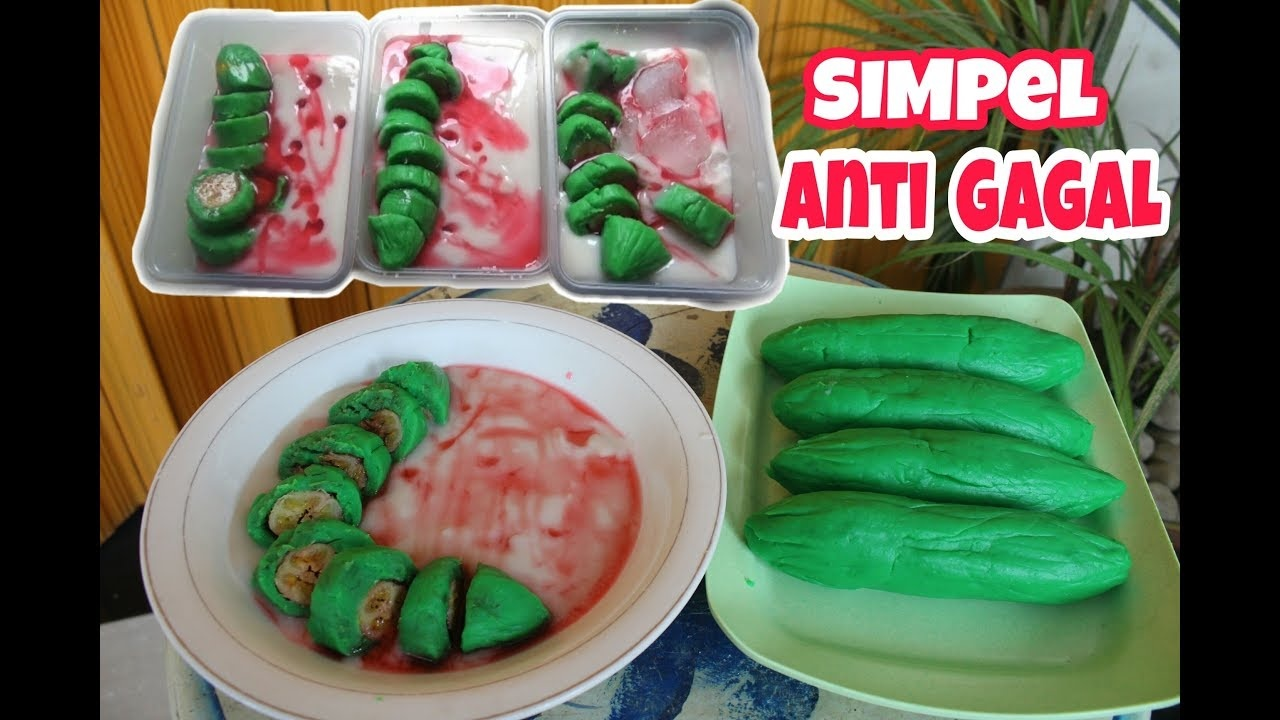es_pisang_ijo: (245, 357, 636, 671), (549, 40, 740, 292), (183, 27, 361, 283), (368, 33, 544, 275)
